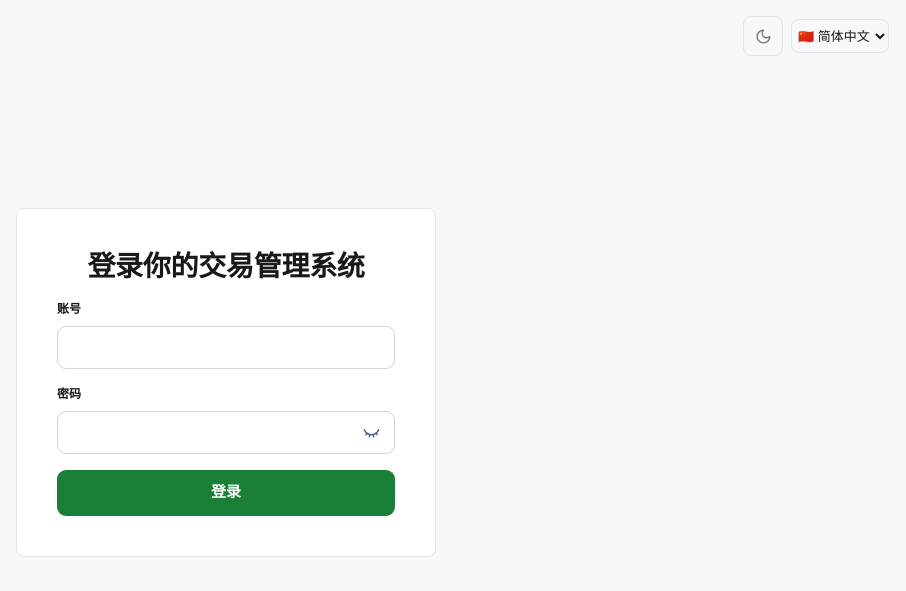
LoginPage › switches language on the login page and persists it for the logged-in shell
Expected: the heading "登录你的交易管理系统" is shown, [87, 248, 365, 282]
Expected: the field labelled "账号" is shown, [57, 326, 395, 368]
Select "🇺🇸 English" in the dropdown named "界面语言" at (840, 36), box [791, 19, 889, 53]
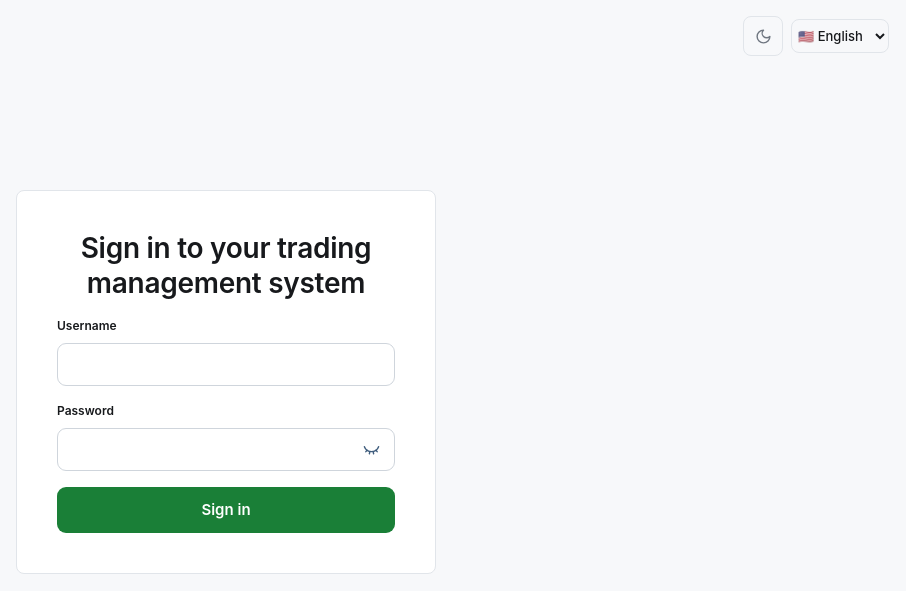
Expected: the heading "Sign in to your trading management system" is shown, [57, 231, 395, 301]
Expected: the heading "登录你的交易管理系统" is gone
Expected: the button "Sign in" is shown, [57, 487, 395, 533]
